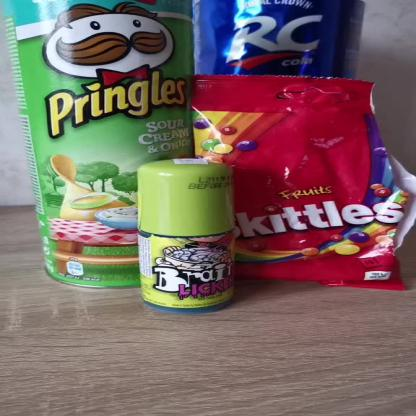potatochip: (0, 0, 199, 296)
